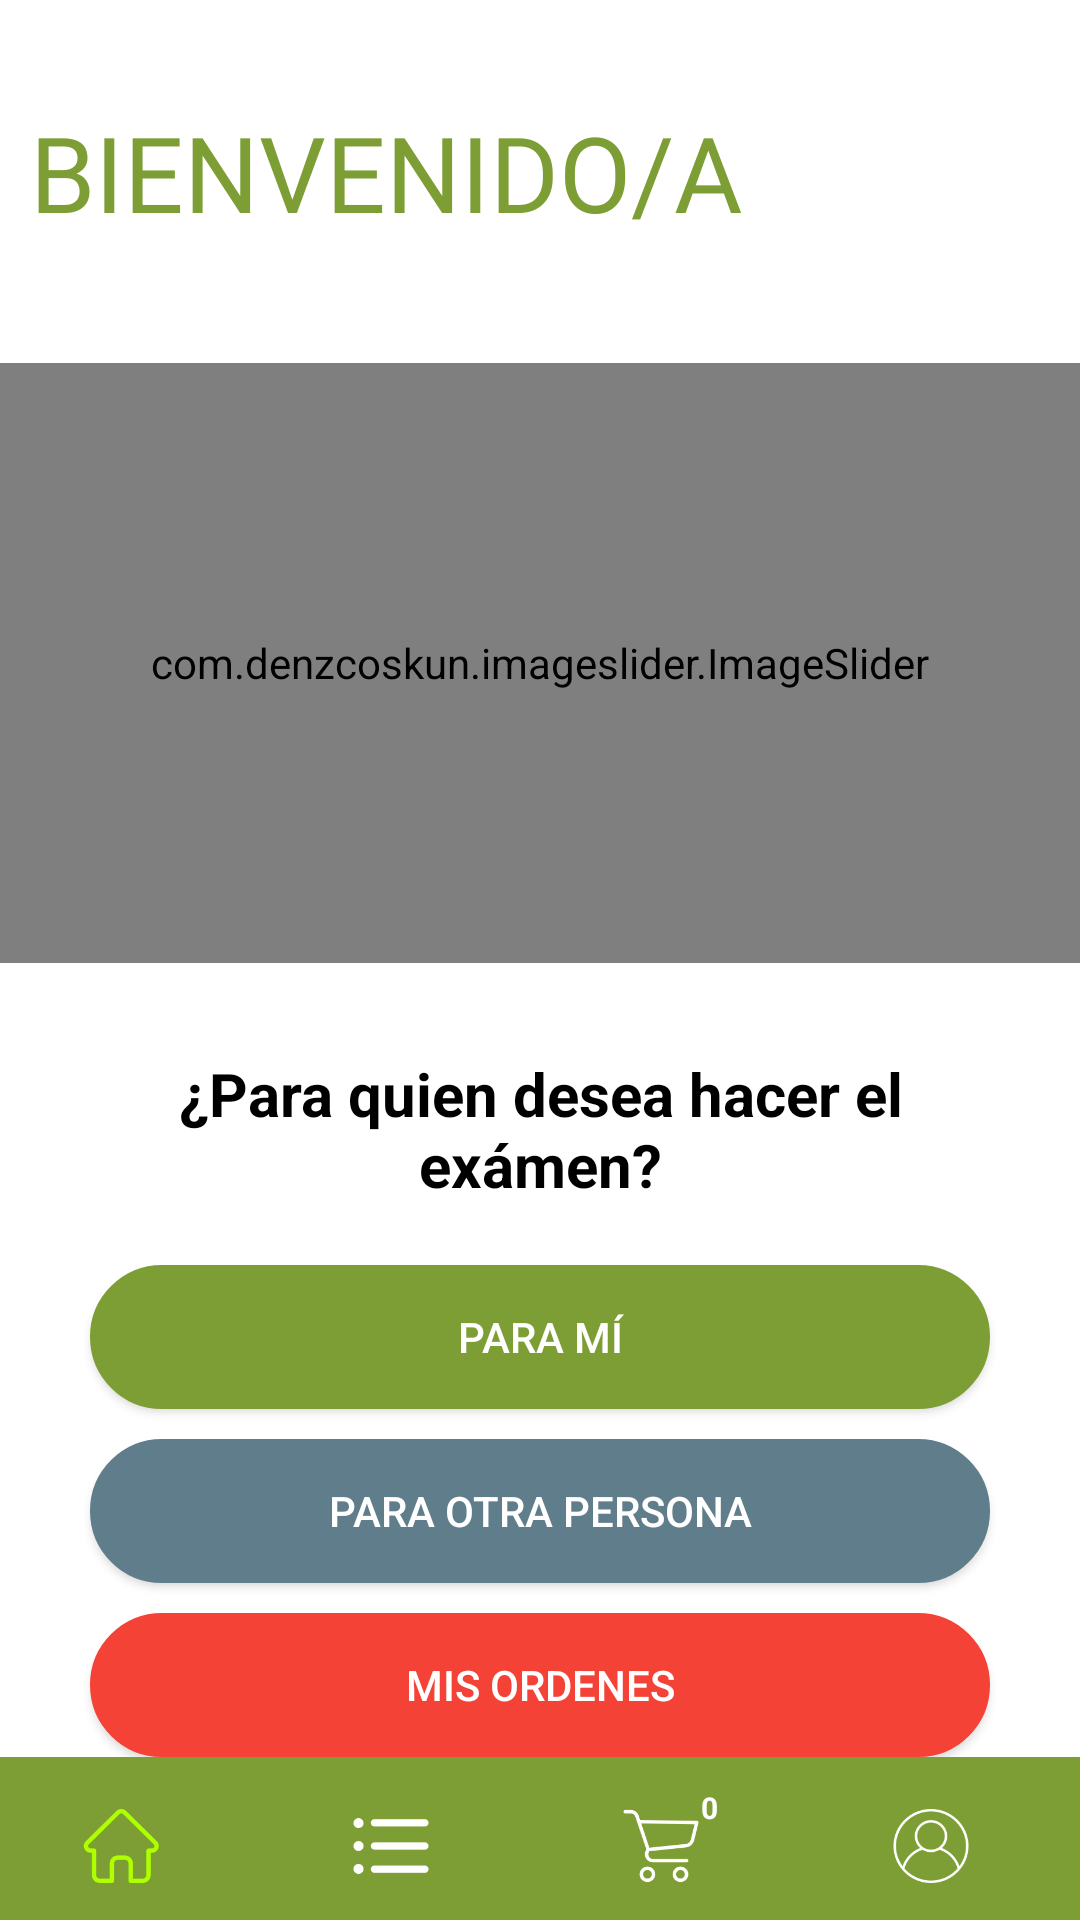

Icon click points for this 1080 x 1920 phone screenshot, format (x=x, y=y):
comprasdef: (x=670, y=1839)
home: (x=121, y=1846)
list: (x=391, y=1846)
usuario: (x=931, y=1846)
